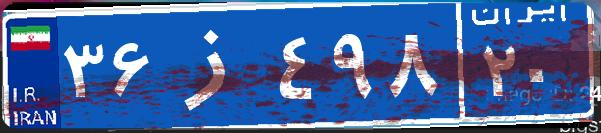0: (525, 38, 570, 115)
2: (475, 38, 525, 113)
3: (57, 26, 110, 107)
4: (273, 28, 330, 110)
6: (110, 28, 158, 105)
8: (385, 28, 445, 110)
9: (330, 28, 385, 110)
ز: (158, 15, 273, 115)
